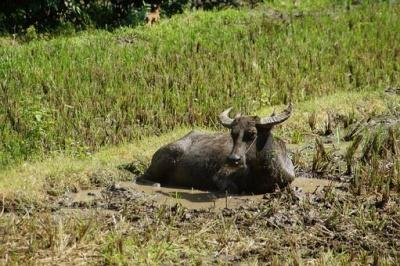buffalo: (141, 103, 294, 194)
